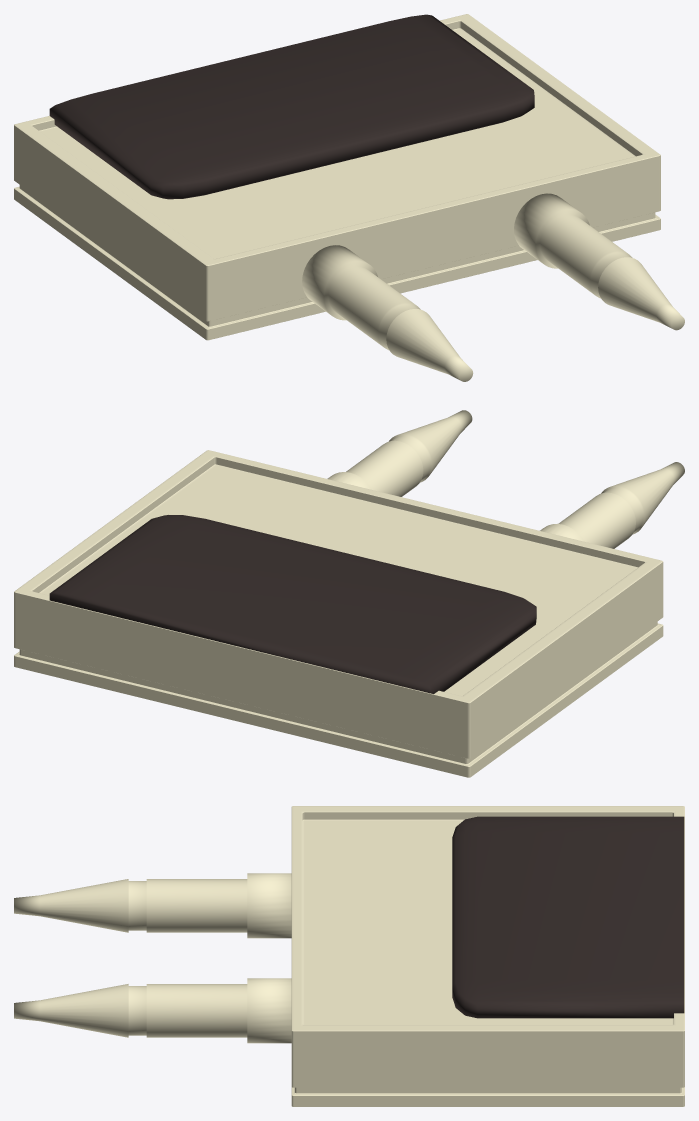
File: router_tier7.fbx
3 views of the same model, one above another, from view 1: azimuth 30°, elevation 25°; view 2: azimuth 150°, elevation 25°; view 3: azimuth 270°, elevation 25° (orthographic).
Visible parts, largest first — view 1: Cube.001, Cube.002, Sphere.002, Sphere.001; view 2: Cube.001, Cube.002, Sphere.002, Sphere.001; view 3: Cube.001, Cube.002, Sphere.002, Sphere.001.
Boxes of the visible parts, x1,y1,x2,y2 form: Cube.001: [14, 14, 660, 340]; Cube.002: [49, 14, 534, 199]; Sphere.002: [514, 193, 684, 330]; Sphere.001: [302, 245, 473, 381]; Cube.001: [14, 450, 663, 777]; Cube.002: [49, 515, 536, 693]; Sphere.002: [327, 410, 472, 496]; Sphere.001: [540, 462, 684, 548]; Cube.001: [291, 806, 684, 1106]; Cube.002: [452, 816, 684, 1018]; Sphere.002: [14, 978, 291, 1043]; Sphere.001: [14, 873, 291, 938].
Size of the model in its own units: 0.5367 by 0.0977 by 0.6754.
